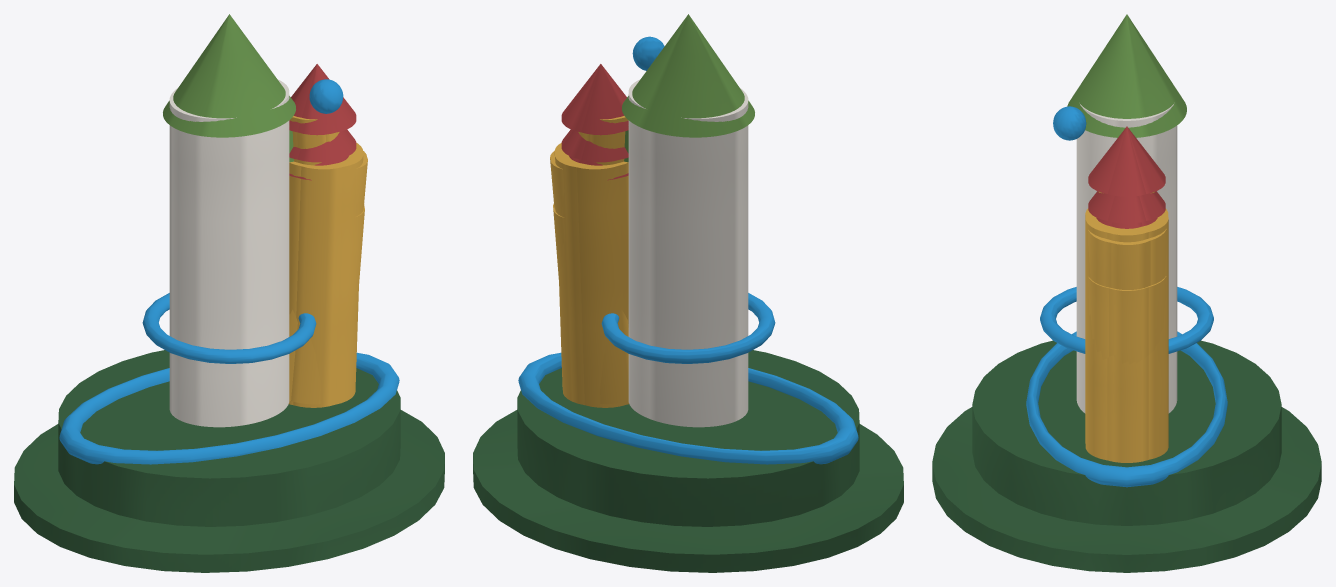
File: 0663_史前人类图鉴_钟乳石圈.glb
3 renders of one model, left to right at view 1: azimuth 30°, elevation 25°; view 2: azimuth 150°, elevation 25°; view 3: azimuth 270°, elevation 25°, orthographic.
Parts seen in each view (by area): view 1: card_0663; view 2: card_0663; view 3: card_0663.
Boxes of the visible parts, x1=… form: card_0663: x1=14, y1=14, x2=444, y2=572; card_0663: x1=473, y1=14, x2=903, y2=572; card_0663: x1=932, y1=14, x2=1321, y2=572.
Bounding box in the file's own units: 0.8513 × 1 × 0.7571.
